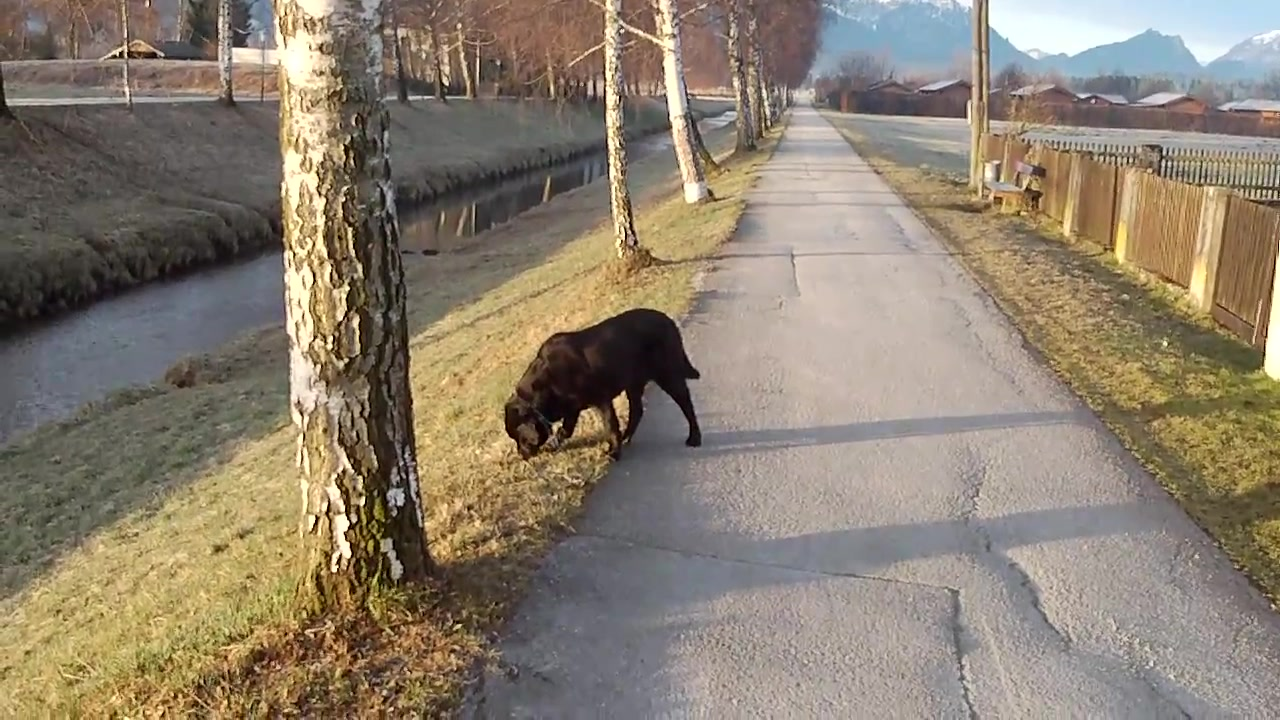dog: (502, 306, 702, 466)
